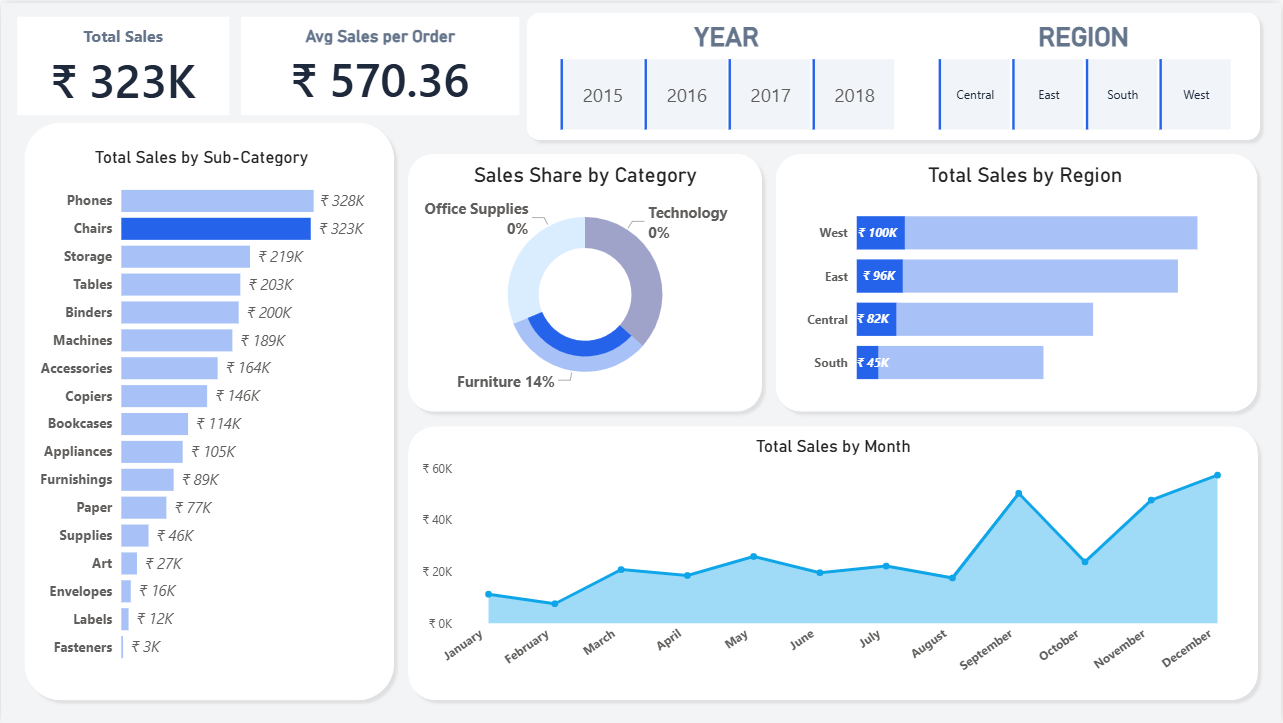

Layout of this report page (visuals, bound fields, positions):
{"tool":"powerbi","page":{"name":"Page 1","canvas":[1280,720],"ordinal":0},"visuals":[{"type":"shape","box":[518.2,2.7,747.3,141.8],"z":0},{"type":"shape","box":[400,416,864,288],"z":1000},{"type":"shape","box":[400,144,368,272],"z":2000},{"type":"shape","box":[768,144,496,272],"z":3000},{"type":"shape","box":[16,112,384,592],"z":4000},{"type":"card","title":"Total Sales","fields":{"Values":["train.Total Sales"]},"box":[16.7,13.3,211.7,98.3],"z":5000},{"type":"card","title":"Avg Sales per Order","fields":{"Values":["train.Avg Sales per Order"]},"box":[240,13.3,278.3,98.3],"z":6000},{"type":"areaChart","fields":{"Category":["train.Order Date.Variation.Date Hierarchy.Month"],"Y":["train.Total Sales"]},"box":[416,432,832,256],"z":7000},{"type":"donutChart","title":"Sales Share by Category","fields":{"Category":["train.Category"],"Y":["train.Total Sales"]},"box":[416,160,336,240],"z":8000},{"type":"barChart","fields":{"Category":["train.Sub-Category"],"Y":["train.Total Sales"]},"box":[32,144,336,528],"z":9000},{"type":"clusteredBarChart","fields":{"Category":["train.Region"],"Y":["train.Total Sales"]},"box":[800,160,448,240],"z":10000},{"type":"slicer","title":"YEAR","fields":{"Values":["train.Order Date.Variation.Date Hierarchy.Year"]},"box":[538.2,13.6,373.6,120],"z":11000},{"type":"slicer","title":"REGION","fields":{"Values":["train.Region"]},"box":[911.8,13.6,342.7,120],"z":12000}]}

Visuals, with their boxes in screenshot pixels (x1, y1, x2, y2), scaled from the page's 1280x720 canvas onto the 1283x723 screenshot:
shape: region(519, 3, 1268, 145)
shape: region(401, 418, 1267, 707)
shape: region(401, 145, 770, 418)
shape: region(770, 145, 1267, 418)
shape: region(16, 112, 401, 707)
"Total Sales" card: region(17, 13, 229, 112)
"Avg Sales per Order" card: region(241, 13, 520, 112)
areaChart - train.Order Date.Variation.Date Hierarchy.Month x train.Total Sales: region(417, 434, 1251, 691)
"Sales Share by Category" donutChart: region(417, 161, 754, 402)
barChart - train.Sub-Category x train.Total Sales: region(32, 145, 369, 675)
clusteredBarChart - train.Region x train.Total Sales: region(802, 161, 1251, 402)
"YEAR" slicer: region(539, 14, 914, 134)
"REGION" slicer: region(914, 14, 1257, 134)
